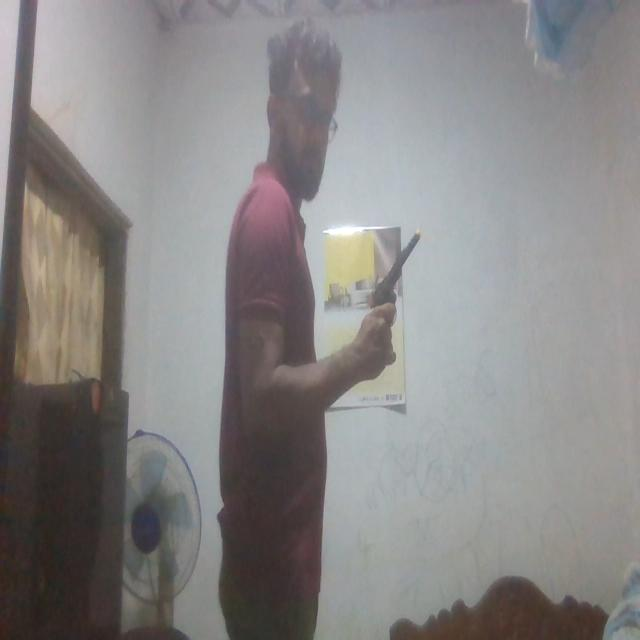Gun_Holder: (363, 224, 427, 364)
Person: (205, 18, 395, 640)
